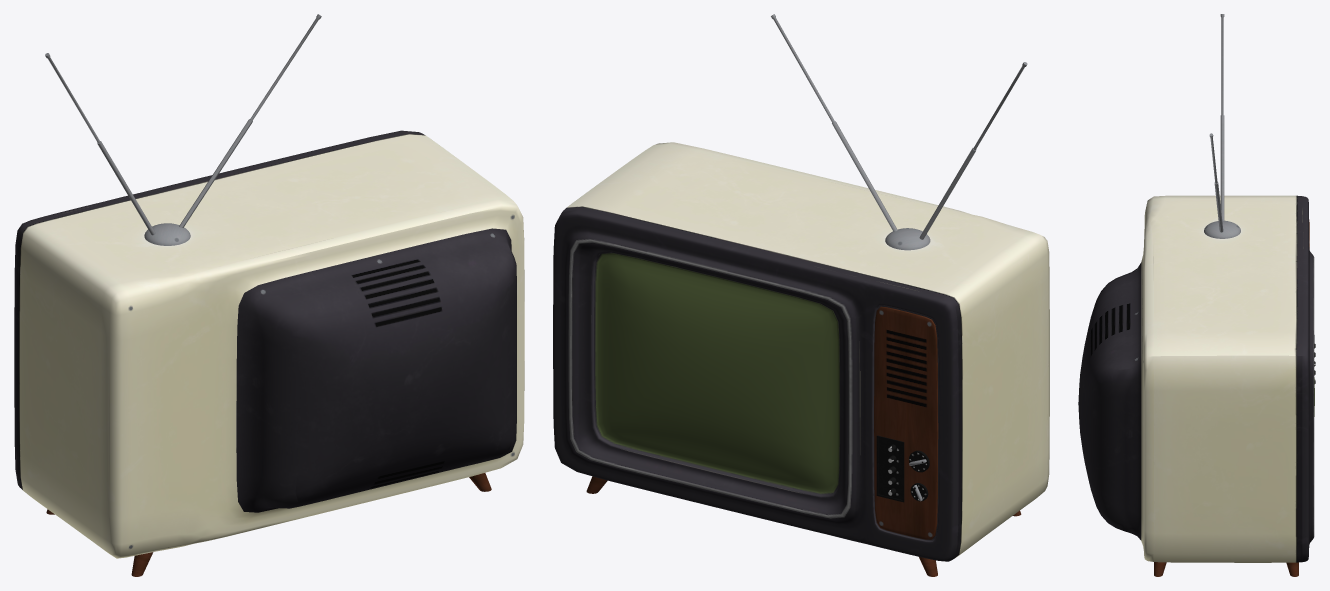
The model's file is tv-retro.gltf.
The picture shows the model from 3 angles, left to right: view 1: azimuth 30°, elevation 25°; view 2: azimuth 150°, elevation 25°; view 3: azimuth 270°, elevation 25°; orthographic projection. The views are drawn at different scales.
Visible parts, largest first — view 1: TV_Retro; view 2: TV_Retro; view 3: TV_Retro.
Part boxes in pixels (<box>): TV_Retro: <box>14,14,524,576</box>; TV_Retro: <box>553,14,1049,576</box>; TV_Retro: <box>1078,14,1315,576</box>.
Size of the model in its own units: 1.81 by 2 by 1.06.
1 material, 1 textured.
